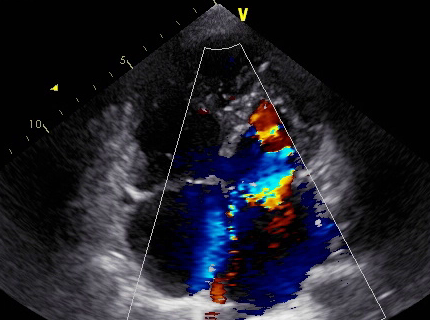MR: (231, 170, 297, 203)
